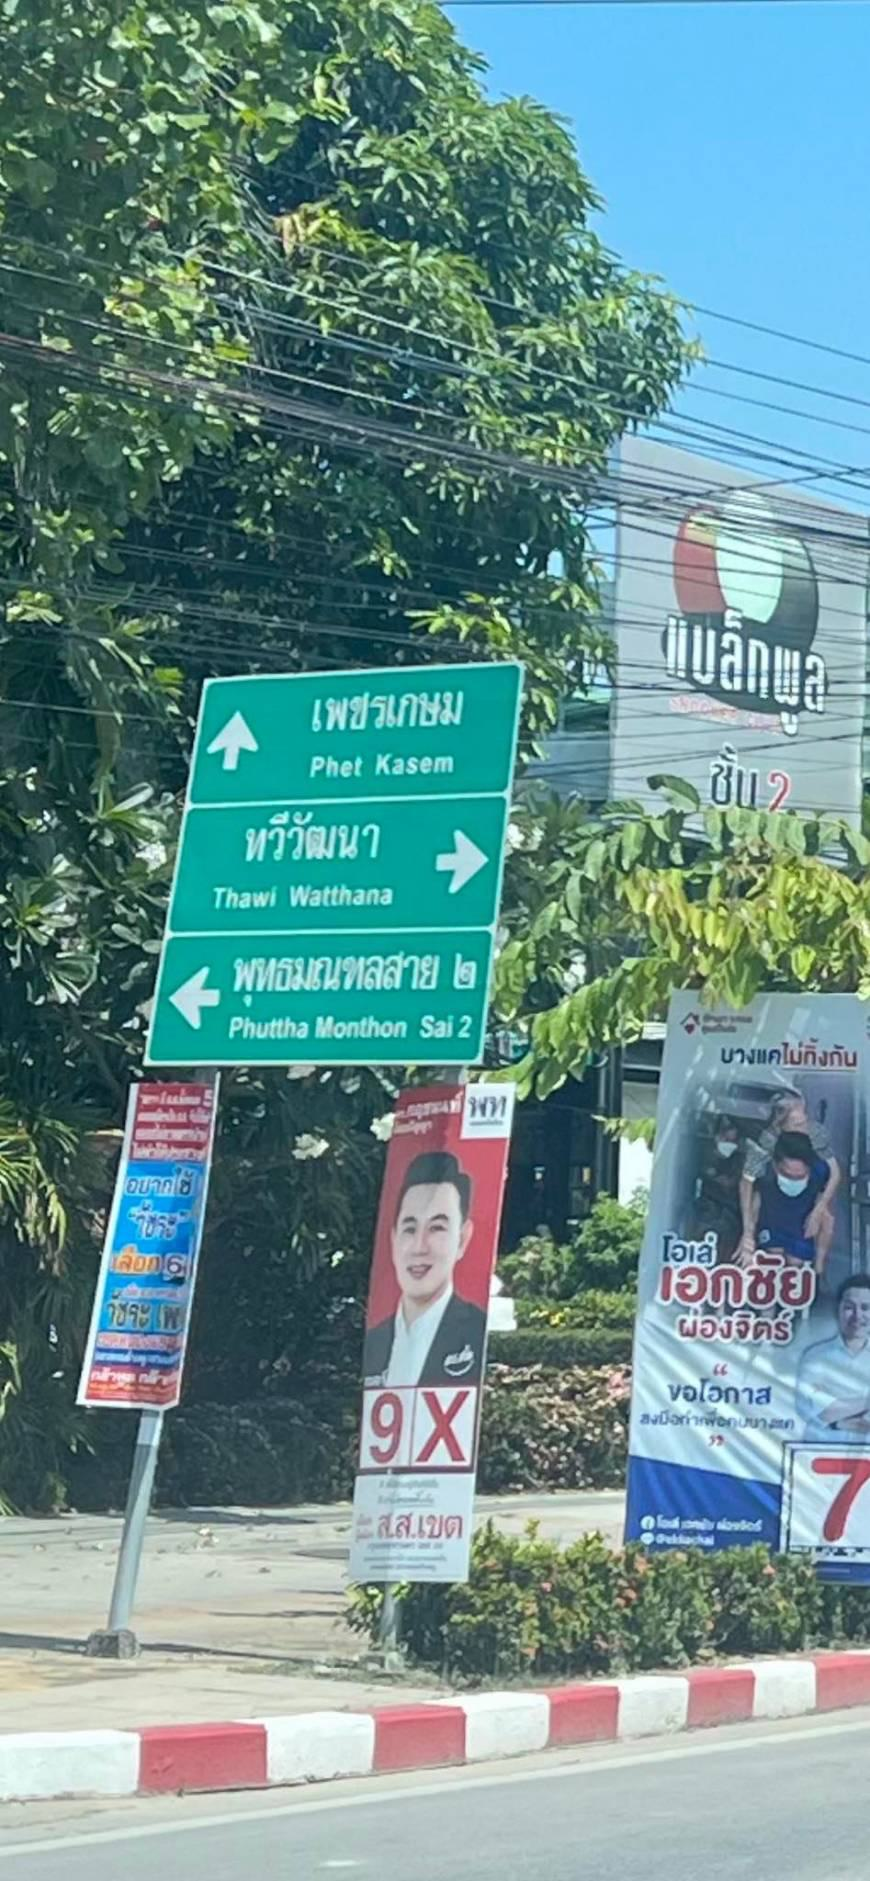Banner: (323, 1060, 536, 1589)
